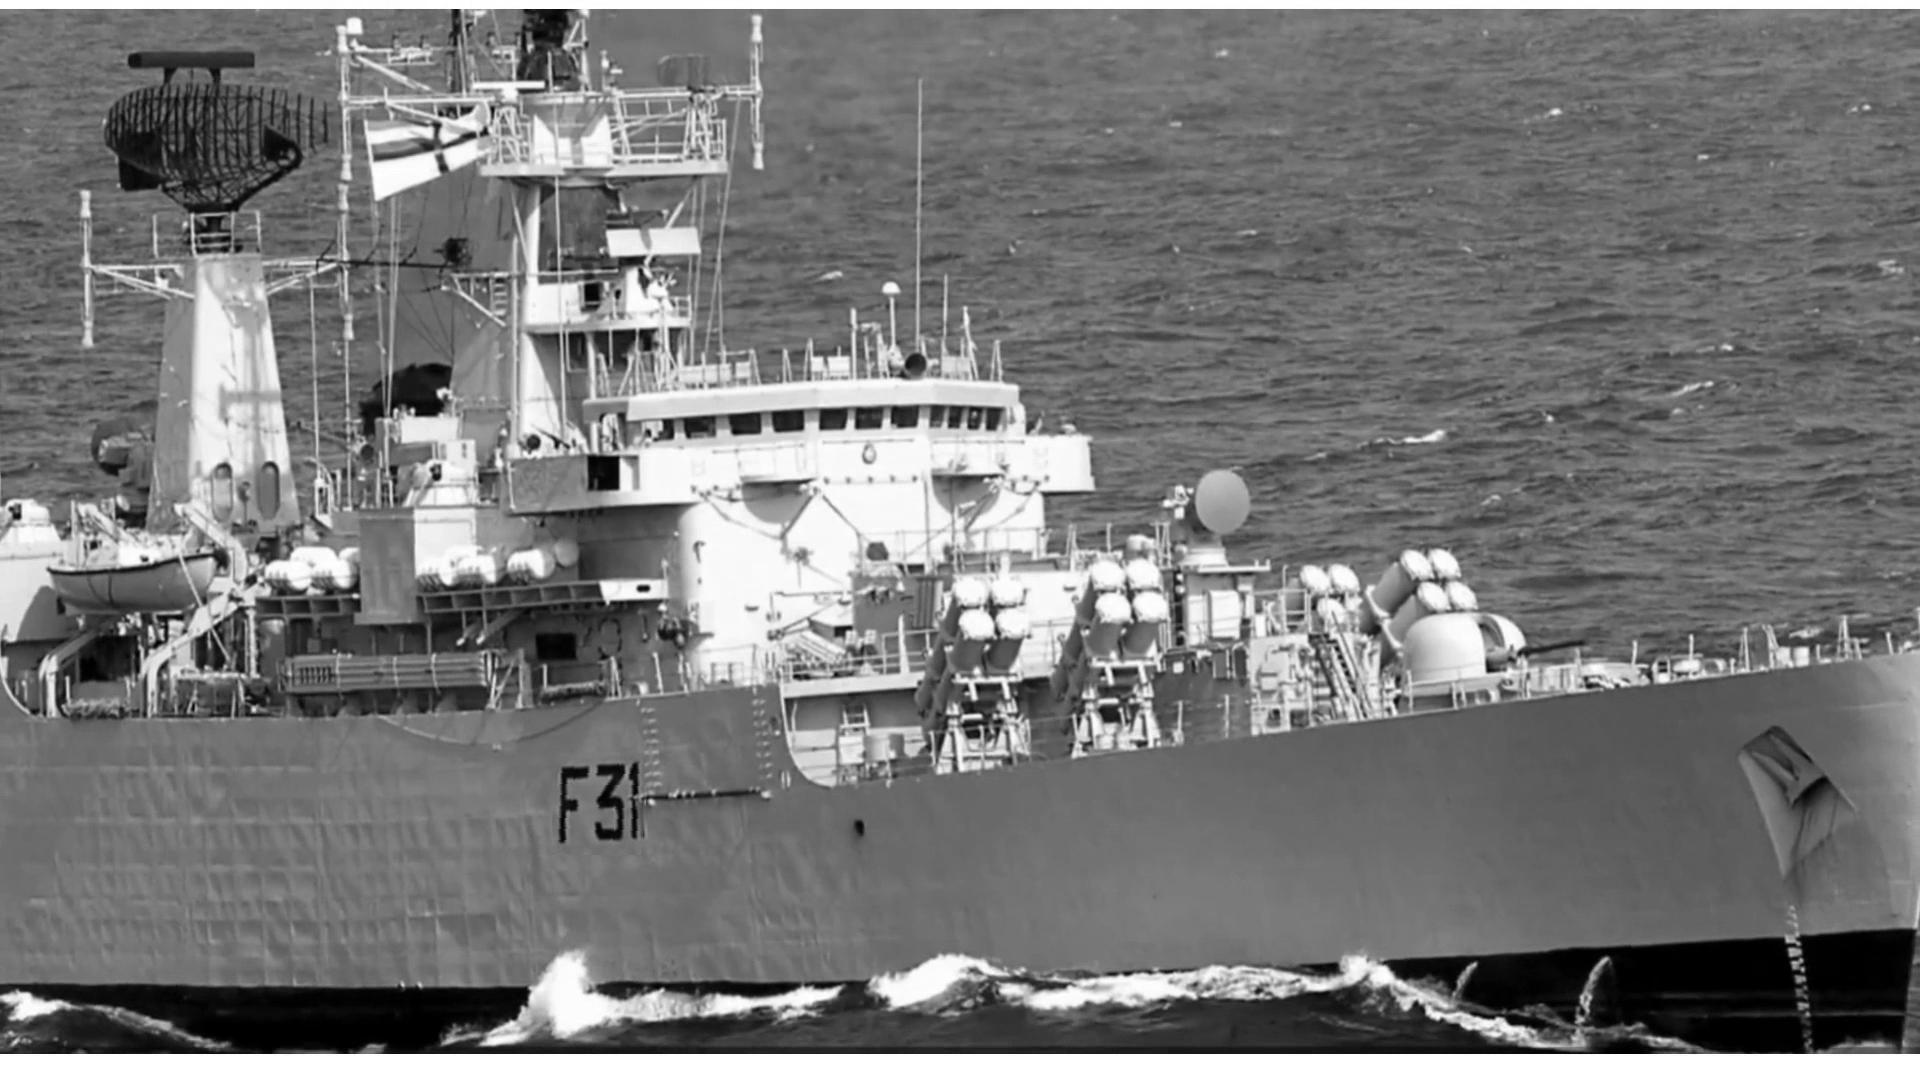OCR: (552, 756, 650, 856)
